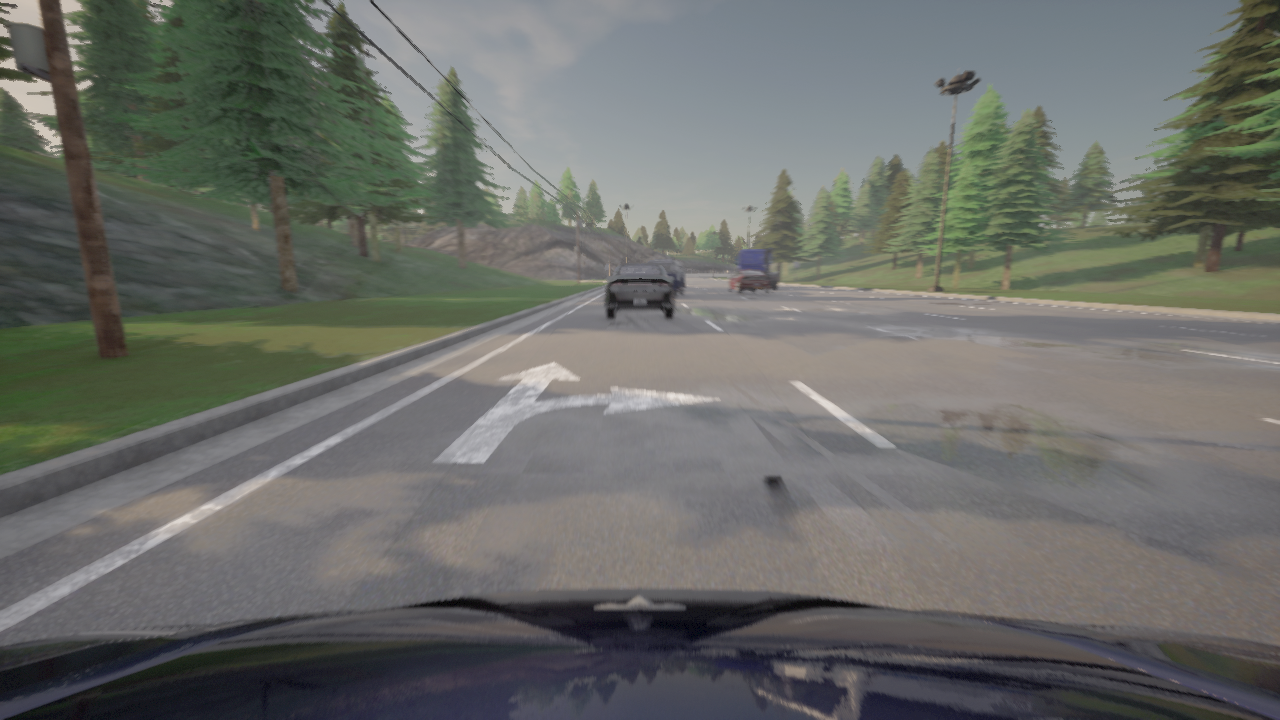cyclist: (0, 588, 1279, 719), (605, 263, 674, 318), (735, 248, 777, 288), (648, 260, 686, 295), (728, 269, 769, 293)
